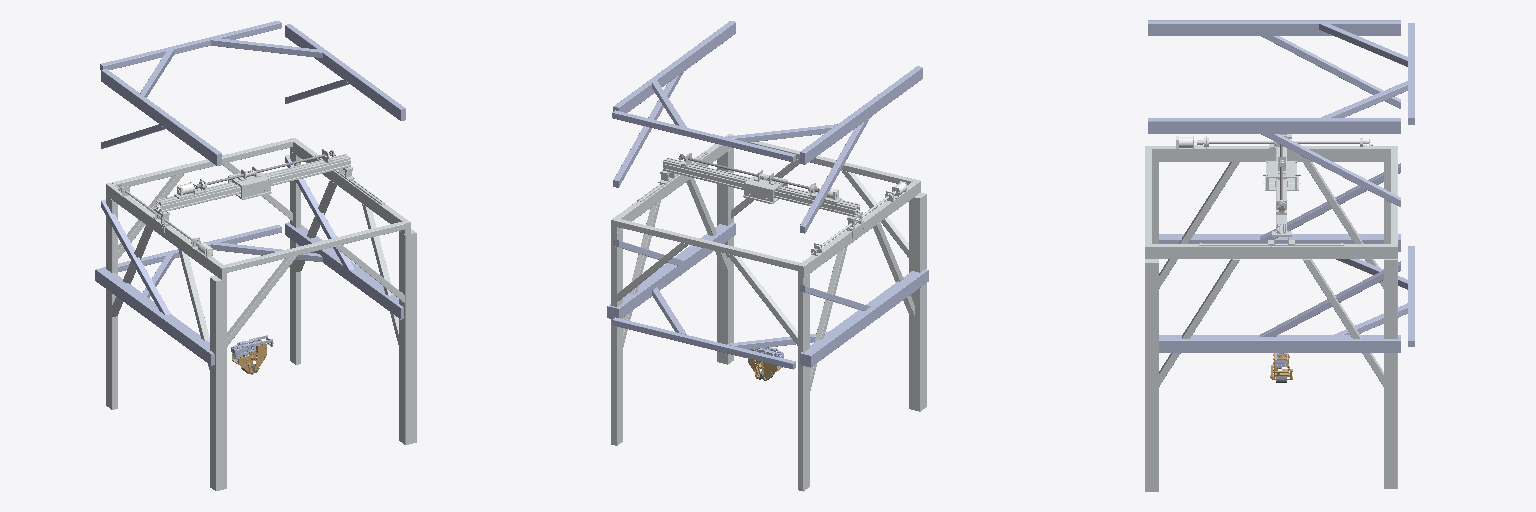
--- What the picture shows (computed from the rendered views, not written in the file) ---
Views: 3 orthographic renders of the robot side by side, from view 1: azimuth 30°, elevation 25°; view 2: azimuth 150°, elevation 25°; view 3: azimuth 270°, elevation 25°.
Robot: pleatrobot — 27 links, 26 joints (7 revolute, 2 continuous, 3 prismatic, 14 fixed); root link world; default pose: all joints at 0.
Links seen in each view (by area): view 1: base_link, gripper_base_link, top_bar, right_bar, left_bar, motion2_slider; view 2: base_link, gripper_base_link, top_bar, right_bar, left_bar, motion2_slider; view 3: gripper_base_link, base_link, left_bar, right_bar, motion2_slider, top_bar.
Boxes of the visible links, <box> form: base_link: <box>106,139,416,490</box>; gripper_base_link: <box>95,21,405,365</box>; top_bar: <box>156,149,354,212</box>; right_bar: <box>106,183,226,279</box>; left_bar: <box>290,138,410,234</box>; motion2_slider: <box>228,166,271,199</box>; base_link: <box>611,135,926,491</box>; gripper_base_link: <box>607,21,928,369</box>; top_bar: <box>658,153,859,216</box>; right_bar: <box>798,179,920,277</box>; left_bar: <box>611,134,733,232</box>; motion2_slider: <box>743,170,787,203</box>; gripper_base_link: <box>1148,20,1414,352</box>; base_link: <box>1145,149,1397,491</box>; left_bar: <box>1145,243,1397,258</box>; right_bar: <box>1145,136,1397,161</box>; motion2_slider: <box>1263,157,1300,190</box>; top_bar: <box>1268,134,1294,246</box>.
Size in the robot's own frame: 1.83 by 1.92 by 2.87 metres.
Meshes: 25 distinct files referenced, 17 mesh visuals loaded (16 binary STL); not drawn: 8 (reference not matched to a file when rendering).

URDF robot description (pleatrobot):
<?xml version="1.0" ?>
<!-- =================================================================================== -->
<!-- |    This document was autogenerated by xacro from pleatrobot.urdf.xacro          | -->
<!-- |    EDITING THIS FILE BY HAND IS NOT RECOMMENDED                                 | -->
<!-- =================================================================================== -->
<robot name="pleatrobot">

  <material name="Black">
    <color rgba="0.0 0.0 0.0 1.0"/>
  </material>
  <material name="Blue">
    <color rgba="0.0 0.0 0.8 1.0"/>
  </material>
  <material name="Green">
    <color rgba="0.0 0.8 0.0 1.0"/>
  </material>
  <material name="Grey">
    <color rgba="0.4 0.4 0.4 1.0"/>
  </material>
  <material name="Orange">
    <color rgba="1.0 0.423529411765 0.0392156862745 1.0"/>
  </material>
  <material name="Brown">
    <color rgba="0.870588235294 0.811764705882 0.764705882353 1.0"/>
  </material>
  <material name="Red">
    <color rgba="0.8 0.0 0.0 1.0"/>
  </material>
  <material name="White">
    <color rgba="1.0 1.0 1.0 1.0"/>
  </material>

  <link name="world">
  </link>
  
  <link name="base_link">
    <inertial>
      <origin rpy="0 0 0" xyz="0 0 0.95"/>
      <mass value="186.7"/>
      <inertia ixx="120" iyy="120" izz="120" ixy="0" ixz="0" iyz="0" />
    </inertial>
    <visual>
      <origin rpy="0 0 0" xyz="0 0 0.95"/>
      <geometry>
        <mesh filename="package://gantry_description/meshes/base_link.STL"/>
      </geometry>
      <material name="">
        <color rgba="0.89804 0.91765 0.92941 1"/>
      </material>
    </visual>
    <collision>
      <origin rpy="0 0 0" xyz="0 0 0.95"/>
      <geometry>
        <mesh filename="package://gantry_description/meshes/base_link.STL"/>
      </geometry>
    </collision>
  </link>

  <joint name="world_to_baselink" type="fixed">
    <origin rpy="0 0 0" xyz="0 0 0"/>
    <parent link="world"/>
    <child link="base_link"/>
    <axis xyz="0 0 0"/>
  </joint>
  
  
  <link name="left_bar">
    <inertial>
      <origin rpy="0 0 0" xyz="0.82653 0.0 1.85173"/>
      <mass value="24.263"/>
      <inertia ixx="6.57" iyy="0.03" izz="6.56" ixy="0" ixz="0" iyz="0" />
    </inertial>
    <visual>
      <origin rpy="0 0 0" xyz="0 0 0.95"/>
      <geometry>
        <mesh filename="package://gantry_description/meshes/left_bar.STL"/>
      </geometry>
      <material name="">
        <color rgba="0.89804 0.91765 0.92941 1"/>
      </material>
    </visual>
    <collision>
      <origin rpy="0 0 0" xyz="0 0 0.95"/>
      <geometry>
        <mesh filename="package://gantry_description/meshes/left_bar.STL"/>
      </geometry>
    </collision>
  </link>
  
  <joint name="f_left_bar" type="fixed">
    <origin rpy="0 0 0" xyz="0 0 0"/>
    <parent link="base_link"/>
    <child link="left_bar"/>
    <axis xyz="0 0 0"/>
  </joint>
  
  
  <link name="right_bar">
    <inertial>
      <origin rpy="0 0 0" xyz="-0.82689 0 1.85173"/>
      <mass value="24.263"/>
      <inertia ixx="6.57" iyy="0.03" izz="6.56" ixy="0" ixz="0" iyz="0" />
    </inertial>
    <visual>
      <origin rpy="0 0 0" xyz="0 0 0.95"/>
      <geometry>
        <mesh filename="package://gantry_description/meshes/right_bar.STL"/>
      </geometry>
      <material name="">
        <color rgba="0.89804 0.91765 0.92941 1"/>
      </material>
    </visual>
    <collision>
      <origin rpy="0 0 0" xyz="0 0 0.95"/>
      <geometry>
        <mesh filename="package://gantry_description/meshes/right_bar.STL"/>
      </geometry>
    </collision>
  </link>


  <joint name="f_right_bar" type="fixed">
    <origin rpy="0 0 0" xyz="0 0 0"/>
    <parent link="base_link"/>
    <child link="right_bar"/>
    <axis xyz="0 0 0"/>
  </joint>
  
  <link name="right_motor">
    <inertial>
      <origin rpy="0 0 0" xyz="-0.83094 -0.60801 1.93633"/>
      <mass value="0.512"/>
      <inertia ixx="0.00067287" iyy="0.00037705" izz="0.00067162" ixy="0" ixz="0" iyz="0" />
    </inertial>
    <visual>
      <origin rpy="0 0 0" xyz="0 0 0.95"/>
      <geometry>
        <mesh filename="package://gantry_description/meshes/right_motor.STL"/>
      </geometry>
      <material name="">
        <color rgba="1 1 1 1"/>
      </material>
    </visual>
    <collision>
      <origin rpy="0 0 0" xyz="0 0 0.95"/>
      <geometry>
        <mesh filename="package://gantry_description/meshes/right_motor.STL"/>
      </geometry>
    </collision>
  </link>
  
  
  <joint name="f_right_motor" type="fixed">
    <origin rpy="0 0 0" xyz="0 0 0"/>
    <parent link="right_bar"/>
    <child link="right_motor"/>
    <axis xyz="0 0 0"/>
  </joint>
  
  
  <link name="right_rod">
    <inertial>
      <origin rpy="0 0 0" xyz="-0.82757 0.09458 1.93633"/>
      <mass value="0.02709"/>
      <inertia ixx="4.5437E-05" iyy="4.0541E-06" izz="4.5437E-05" ixy="0" ixz="0" iyz="0" />
    </inertial>
    <visual>
      <origin rpy="0 0 0" xyz="0 0 0.95"/>
      <geometry>
        <mesh filename="package://gantry_description/meshes/right_rod.STL"/>
      </geometry>
      <material name="">
        <color rgba="0.89804 0.91765 0.92941 1"/>
      </material>
    </visual>
    <collision>
      <origin rpy="0 0 0" xyz="0 0 0.95"/>
      <geometry>
        <mesh filename="package://gantry_description/meshes/right_rod.STL"/>
      </geometry>
    </collision>
  </link>
  
  
  <joint name="f_right_rod" type="fixed">
    <origin rpy="0 0 0" xyz="0 0 0"/>
    <parent link="right_motor"/>
    <child link="right_rod"/>
    <axis xyz="0 0 0"/>
  </joint>
  
  
  <link name="motion1_slider">
    <inertial>
      <origin rpy="0 0 0" xyz="-0.82949 0.07672 1.94128"/>
      <mass value="1.8544"/>
      <inertia ixx="0.0032532" iyy="2.0988E-07" izz="0.003516" ixy="2.0988E-07" ixz="-4.5186E-05" iyz="1.6779E-07" />
    </inertial>
    <visual>
      <origin rpy="0 0 0" xyz="0 0 0.95"/>
      <geometry>
        <mesh filename="package://gantry_description/meshes/motion1_slider.STL"/>
      </geometry>
      <material name="">
        <color rgba="0.89804 0.91765 0.92941 1"/>
      </material>
    </visual>
    <collision>
      <origin rpy="0 0 0" xyz="0 0 0.95"/>
      <geometry>
        <mesh filename="package://gantry_description/meshes/motion1_slider.STL"/>
      </geometry>
    </collision>
  </link>
  
  
  <joint name="p_motion1" type="prismatic">
    <origin rpy="0 0 0" xyz="0 0 0"/>
    <parent link="right_rod"/>
    <child link="motion1_slider"/>
    <axis xyz="0 1 0"/>
    <limit effort="10" lower="-0.4" upper="0.4" velocity="50"/>
  </joint>
  
  
  <link name="top_bar">
    <inertial>
      <origin rpy="0 0 0" xyz="0.00405 0.07701 2.0363"/>
      <mass value="10.752"/>
      <inertia ixx="0.01" iyy="1.89" izz="1.89" ixy="3.5377E-07" ixz="1.4909E-05" iyz="8.3927E-06" />
    </inertial>
    <visual>
      <origin rpy="0 0 0" xyz="0 0 0.95"/>
      <geometry>
        <mesh filename="package://gantry_description/meshes/top_bar.STL"/>
      </geometry>
      <material name="">
        <color rgba="0.89804 0.91765 0.92941 1"/>
      </material>
    </visual>
    <collision>
      <origin rpy="0 0 0" xyz="0 0 0.95"/>
      <geometry>
        <mesh filename="package://gantry_description/meshes/top_bar.STL"/>
      </geometry>
    </collision>
  </link>
  
  
  <joint name="f_top_bar" type="fixed">
    <origin rpy="0 0 0" xyz="0 0 0"/>
    <parent link="motion1_slider"/>
    <child link="top_bar"/>
    <axis xyz="0 0 0"/>
  </joint>


  <link name="top_motor">
    <inertial>
      <origin rpy="0 0 0" xyz="-0.60801 0.07702 2.1295"/>
      <mass value="0.512"/>
      <inertia ixx="0.00037705" iyy="0.00067285" izz="0.00067164" ixy="9.6148E-08" ixz="-2.118E-09" iyz="4.946E-08" />
    </inertial>
    <visual>
      <origin rpy="0 0 0" xyz="0 0 0.95"/>
      <geometry>
        <mesh filename="package://gantry_description/meshes/top_motor.STL"/>
      </geometry>
      <material name="">
        <color rgba="1 1 1 1"/>
      </material>
    </visual>
    <collision>
      <origin rpy="0 0 0" xyz="0 0 0.95"/>
      <geometry>
        <mesh filename="package://gantry_description/meshes/top_motor.STL"/>
      </geometry>
    </collision>
  </link>
  
  
  <joint name="f_top_motor" type="fixed">
    <origin rpy="0 0 0" xyz="0 0 0"/>
    <parent link="top_bar"/>
    <child link="top_motor"/>
    <axis xyz="0 0 0"/>
  </joint>
  
  
  <link name="top_rod">
    <inertial>
      <origin rpy="0 0 0" xyz="0.09323 0.07783 2.1295"/>
      <mass value="0.02709"/>
      <inertia ixx="4.0541E-06" iyy="4.5437E-05" izz="4.5437E-05" ixy="1.4106E-11" ixz="-4.8609E-11" iyz="-3.8569E-11"/>
    </inertial>
    <visual>
      <origin rpy="0 0 0" xyz="0 0 0.95"/>
      <geometry>
        <mesh filename="package://gantry_description/meshes/top_rod.STL"/>
      </geometry>
      <material name="">
        <color rgba="0.68627 0.68627 0.68627 1"/>
      </material>
    </visual>
    <collision>
      <origin rpy="0 0 0" xyz="0 0 0.95"/>
      <geometry>
        <mesh filename="package://gantry_description/meshes/top_rod.STL"/>
      </geometry>
    </collision>
  </link>


  <joint name="f_top_rod" type="fixed">
    <origin rpy="0 0 0" xyz="0 0 0"/>
    <parent link="top_motor"/>
    <child link="top_rod"/>
    <axis xyz="0 0 0"/>
  </joint>


  <link name="motion2_slider">
    <inertial>
      <origin rpy="0 0 0" xyz="0.04102 0.07292 2.0347"/>
      <mass value="6.9597"/>
      <inertia ixx="0.020511" ixy="-2.0988E-07" iyy="0.037035" izz="0.054451" ixz="-1.7396E-07" iyz="-4.3519E-11" />
    </inertial>
    <visual>
      <origin rpy="0 0 0" xyz="0 0 0.95"/>
      <geometry>
        <mesh filename="package://gantry_description/meshes/motion2_slider.STL"/>
      </geometry>
      <material name="">
        <color rgba="0.89804 0.91765 0.92941 1"/>
      </material>
    </visual>
    <collision>
      <origin rpy="0 0 0" xyz="0 0 0.95"/>
      <geometry>
        <mesh filename="package://gantry_description/meshes/motion2_slider.STL"/>
      </geometry>
    </collision>
  </link>
  
  
  <joint name="p_motion2" type="prismatic">
    <origin rpy="0 0 0" xyz="0 0 0"/>
    <parent link="top_rod"/>
    <child link="motion2_slider"/>
    <axis xyz="1 0 0"/>
    <limit effort="10" lower="-0.4" upper="0.4" velocity="50"/>
  </joint>
  
  
  <!--joint between {parent} and link_0-->
  <joint name="motion2_slider_pleatrobot_joint" type="fixed">
    <origin rpy="0 3.1416 0" xyz="-0.035 0.075 1.98253"/>
    <parent link="motion2_slider"/>
    <child link="pleatrobot_link_0"/>
  </joint>
  
  
  <link name="pleatrobot_link_0">
    <inertial>
      <origin rpy="0 0 0" xyz="-0.1 0 0.07"/>
      <mass value="5"/>
      <inertia ixx="0.05" ixy="0" ixz="0" iyy="0.06" iyz="0" izz="0.03"/>
    </inertial>
    <visual>
      <origin rpy="0 0 0" xyz="0 0 0"/>
      <geometry>
        <mesh filename="package://pleatrobot_description/meshes/iiwa7/visual/link_0.stl"/>
      </geometry>
      <material name="Grey"/>
    </visual>
    <collision>
      <origin rpy="0 0 0" xyz="0 0 0"/>
      <geometry>
        <mesh filename="package://pleatrobot_description/meshes/iiwa7/collision/link_0.stl"/>
      </geometry>
      <material name="Grey"/>
    </collision>
    <self_collision_checking>
      <origin rpy="0 0 0" xyz="0 0 0"/>
      <geometry>
        <capsule length="0.25" radius="0.15"/>
      </geometry>
    </self_collision_checking>
  </link>
  
  
  <!-- joint between link_0 and link_1 -->
  <joint name="pleatrobot_joint_1" type="revolute">
    <parent link="pleatrobot_link_0"/>
    <child link="pleatrobot_link_1"/>
    <origin rpy="0 0 0" xyz="0 0 0.15"/>
    <axis xyz="0 0 1"/>
    <limit effort="300" lower="-2.96705972839" upper="2.96705972839" velocity="10"/>
    <safety_controller k_position="100" k_velocity="2" soft_lower_limit="-2.93215314335" soft_upper_limit="2.93215314335"/>
    <dynamics damping="0.5"/>
  </joint>
  
  
  <link name="pleatrobot_link_1">
    <inertial>
      <origin rpy="0 0 0" xyz="0 -0.03 0.12"/>
      <mass value="3.4525"/>
      <inertia ixx="0.02183" ixy="0" ixz="0" iyy="0.007703" iyz="-0.003887" izz="0.02083"/>
    </inertial>
    <visual>
      <origin rpy="0 0 0" xyz="0 0 0.0075"/>
      <geometry>
        <mesh filename="package://pleatrobot_description/meshes/iiwa7/visual/link_1.stl"/>
      </geometry>
      <material name="Orange"/>
    </visual>
    <collision>
      <origin rpy="0 0 0" xyz="0 0 0.0075"/>
      <geometry>
        <mesh filename="package://pleatrobot_description/meshes/iiwa7/collision/link_1.stl"/>
      </geometry>
      <material name="Orange"/>
    </collision>
  </link>
  
  
  <joint name="pleatrobot_joint_2" type="revolute">
    <parent link="pleatrobot_link_1"/>
    <child link="pleatrobot_link_2"/>
    <origin rpy="1.57079632679   0 3.14159265359" xyz="0 0 0.19"/>
    <axis xyz="0 0 1"/>
    <limit effort="300" lower="-2.09439510239" upper="2.09439510239" velocity="10"/>
    <safety_controller k_position="100" k_velocity="2" soft_lower_limit="-2.05948851735" soft_upper_limit="2.05948851735"/>
    <dynamics damping="0.5"/>
  </joint>
  
  
  <link name="pleatrobot_link_2">
    <inertial>
      <origin rpy="0 0 0" xyz="0.0003 0.059 0.042"/>
      <mass value="3.4821"/>
      <inertia ixx="0.02076" ixy="0" ixz="-0.003626" iyy="0.02179" iyz="0" izz="0.00779"/>
    </inertial>
    <visual>
      <origin rpy="0 0 0" xyz="0 0 0"/>
      <geometry>
        <mesh filename="package://pleatrobot_description/meshes/iiwa7/visual/link_2.stl"/>
      </geometry>
      <material name="Orange"/>
    </visual>
    <collision>
      <origin rpy="0 0 0" xyz="0 0 0"/>
      <geometry>
        <mesh filename="package://pleatrobot_description/meshes/iiwa7/collision/link_2.stl"/>
      </geometry>
      <material name="Orange"/>
    </collision>
  </link>
  
  
  <joint name="pleatrobot_joint_3" type="revolute">
    <parent link="pleatrobot_link_2"/>
    <child link="pleatrobot_link_3"/>
    <origin rpy="1.57079632679 0 3.14159265359" xyz="0 0.21 0"/>
    <axis xyz="0 0 1"/>
    <limit effort="300" lower="-2.96705972839" upper="2.96705972839" velocity="10"/>
    <safety_controller k_position="100" k_velocity="2" soft_lower_limit="-2.93215314335" soft_upper_limit="2.93215314335"/>
    <dynamics damping="0.5"/>
  </joint>
  
  
  <link name="pleatrobot_link_3">
    <inertial>
      <origin rpy="0 0 0" xyz="0 0.03 0.13"/>
      <mass value="4.05623"/>
      <inertia ixx="0.03204" ixy="0" ixz="0" iyy="0.00972" iyz="0.006227" izz="0.03042"/>
    </inertial>
    <visual>
      <origin rpy="0 0 0" xyz="0 0 -0.026"/>
      <geometry>
        <mesh filename="package://pleatrobot_description/meshes/iiwa7/visual/link_3.stl"/>
      </geometry>
      <material name="Orange"/>
    </visual>
    <collision>
      <origin rpy="0 0 0" xyz="0 0 -0.026"/>
      <geometry>
        <mesh filename="package://pleatrobot_description/meshes/iiwa7/collision/link_3.stl"/>
      </geometry>
      <material name="Orange"/>
    </collision>
  </link>
  
  
  <joint name="pleatrobot_joint_4" type="revolute">
    <parent link="pleatrobot_link_3"/>
    <child link="pleatrobot_link_4"/>
    <origin rpy="1.57079632679 0 0" xyz="0 0 0.19"/>
    <axis xyz="0 0 1"/>
    <limit effort="300" lower="-2.09439510239" upper="2.09439510239" velocity="10"/>
    <safety_controller k_position="100" k_velocity="2" soft_lower_limit="-2.05948851735" soft_upper_limit="2.05948851735"/>
    <dynamics damping="0.5"/>
  </joint>
  
  
  <link name="pleatrobot_link_4">
    <inertial>
      <origin rpy="0 0 0" xyz="0 0.067 0.034"/>
      <mass value="3.4822"/>
      <inertia ixx="0.02178" ixy="0" ixz="0" iyy="0.02075" iyz="-0.003625" izz="0.007785"/>
    </inertial>
    <visual>
      <origin rpy="0 0 0" xyz="0 0 0"/>
      <geometry>
        <mesh filename="package://pleatrobot_description/meshes/iiwa7/visual/link_4.stl"/>
      </geometry>
      <material name="Orange"/>
    </visual>
    <collision>
      <origin rpy="0 0 0" xyz="0 0 0"/>
      <geometry>
        <mesh filename="package://pleatrobot_description/meshes/iiwa7/collision/link_4.stl"/>
      </geometry>
      <material name="Orange"/>
    </collision>
  </link>
  
  
  <joint name="pleatrobot_joint_5" type="revolute">
    <parent link="pleatrobot_link_4"/>
    <child link="pleatrobot_link_5"/>
    <origin rpy="-1.57079632679 3.14159265359 0" xyz="0 0.21 0"/>
    <axis xyz="0 0 1"/>
    <limit effort="300" lower="-2.96705972839" upper="2.96705972839" velocity="10"/>
    <safety_controller k_position="100" k_velocity="2" soft_lower_limit="-2.93215314335" soft_upper_limit="2.93215314335"/>
    <dynamics damping="0.5"/>
  </joint>
  
  
  <link name="pleatrobot_link_5">
    <inertial>
      <origin rpy="0 0 0" xyz="0.0001 0.021 0.076"/>
      <mass value="2.1633"/>
      <inertia ixx="0.01287" ixy="0" ixz="0" iyy="0.005708" iyz="-0.003946" izz="0.01112"/>
    </inertial>
    <visual>
      <origin rpy="0 0 0" xyz="0 0 -0.026"/>
      <geometry>
        <mesh filename="package://pleatrobot_description/meshes/iiwa7/visual/link_5.stl"/>
      </geometry>
      <material name="Orange"/>
    </visual>
    <collision>
      <origin rpy="0 0 0" xyz="0 0 -0.026"/>
      <geometry>
        <mesh filename="package://pleatrobot_description/meshes/iiwa7/collision/link_5.stl"/>
      </geometry>
      <material name="Orange"/>
    </collision>
  </link>
  
  
  <joint name="pleatrobot_joint_6" type="revolute">
    <parent link="pleatrobot_link_5"/>
    <child link="pleatrobot_link_6"/>
    <origin rpy="1.57079632679 0 0" xyz="0 0.06070 0.19"/>
    <axis xyz="0 0 1"/>
    <limit effort="300" lower="-2.09439510239" upper="2.09439510239" velocity="10"/>
    <safety_controller k_position="100" k_velocity="2" soft_lower_limit="-2.05948851735" soft_upper_limit="2.05948851735"/>
    <dynamics damping="0.5"/>
  </joint>
  
  
  <link name="pleatrobot_link_6">
    <inertial>
      <origin rpy="0 0 0" xyz="0 0.0006 0.0004"/>
      <mass value="2.3466"/>
      <inertia ixx="0.006509" ixy="0" ixz="0" iyy="0.006259" iyz="0.00031891" izz="0.004527"/>
    </inertial>
    <visual>
      <origin rpy="0 0 0" xyz="0 0 0"/>
      <geometry>
        <mesh filename="package://pleatrobot_description/meshes/iiwa7/visual/link_6.stl"/>
      </geometry>
      <material name="Orange"/>
    </visual>
    <collision>
      <origin rpy="0 0 0" xyz="0 0 0"/>
      <geometry>
        <mesh filename="package://pleatrobot_description/meshes/iiwa7/collision/link_6.stl"/>
      </geometry>
      <material name="Orange"/>
    </collision>
  </link>
  
  
  <joint name="pleatrobot_joint_7" type="revolute">
    <parent link="pleatrobot_link_6"/>
    <child link="pleatrobot_link_7"/>
    <origin rpy="-1.57079632679 3.14159265359 0" xyz="0 0.081 0.06070"/>
    <axis xyz="0 0 1"/>
    <limit effort="300" lower="-3.05432619099" upper="3.05432619099" velocity="10"/>
    <safety_controller k_position="100" k_velocity="2" soft_lower_limit="-3.01941960595" soft_upper_limit="3.01941960595"/>
    <dynamics damping="0.5"/>
  </joint>
  
  
  <link name="pleatrobot_link_7">
    <inertial>
      <origin rpy="0 0 0" xyz="0 0 0.02"/>
      <mass value="3.129"/>
      <inertia ixx="0.01464" ixy="0.0005912" ixz="0" iyy="0.01465" iyz="0" izz="0.002872"/>
    </inertial>
    <visual>
      <origin rpy="0 0 0" xyz="0 0 -0.0005"/>
      <geometry>
        <mesh filename="package://pleatrobot_description/meshes/iiwa7/visual/link_7.stl"/>
      </geometry>
      <material name="Grey"/>
    </visual>
    <collision>
      <origin rpy="0 0 0" xyz="0 0 -0.0005"/>
      <geometry>
        <mesh filename="package://pleatrobot_description/meshes/iiwa7/collision/link_7.stl"/>
      </geometry>
      <material name="Grey"/>
    </collision>
  </link>
  
  
  <joint name="pleatrobot_joint_ee" type="fixed">
    <parent link="pleatrobot_link_7"/>
    <child link="gripper_base_link"/>
    <origin rpy="-1.5708 0 0" xyz="0 0 0"/>
  </joint>
  
    
  <link name="gripper_base_link">
    <inertial>
      <origin xyz="-1.2189E-07 1.2713 2.1759E-06" rpy="0 0 0" />
      <mass value="0.20104" />
      <inertia ixx="0.00012096" iyy="0.00021064" izz="0.00012095" ixy="-3.4543E-10" ixz="7.792E-11" iyz="2.2037E-09"/>
    </inertial>
    <visual>
      <origin
        xyz="0 1.21 0"
        rpy="0 0 0" />
      <geometry>
        <mesh
          filename="package://gripper_description/meshes/base_link.STL" />
      </geometry>
      <material
        name="">
        <color
          rgba="0.79216 0.81961 0.93333 1" />
      </material>
    </visual>
    <collision>
      <origin
        xyz="0 1.21 0"
        rpy="0 0 0" />
      <geometry>
        <mesh
          filename="package://gripper_description/meshes/base_link.STL" />
      </geometry>
    </collision>
  </link>


  <link name="01_child">
    <inertial>
      <origin xyz="0.0094532 -0.6 -0.0033489" rpy="0 0 0" />
      <mass value="1.3212" />
      <inertia ixx="0.00226" iyy="0.0128225" izz="0.01281505" ixy="0" ixz="0.0016" iyz="0" />
    </inertial>
    <visual>
      <origin
        xyz="0 1.21 0"
        rpy="0 0 0" />
      <geometry>
        <mesh
          filename="package://gripper_description/meshes/01_child.STL" />
      </geometry>
      <material
        name="">
        <color
          rgba="0.79216 0.81961 0.93333 1" />
      </material>
    </visual>
    <collision>
      <origin
        xyz="0 1.21 0"
        rpy="0 0 0" />
      <geometry>
        <mesh
          filename="package://gripper_description/meshes/01_child.STL" />
      </geometry>
    </collision>
  </link>


  <joint name="f_01child" type="fixed">
    <origin
      xyz="0 0 0"
      rpy="0 0 0" />
    <parent
      link="gripper_base_link" />
    <child
      link="01_child" />
    <axis
      xyz="0 0 0" />
  </joint>


  <link name="jaw1">
    <inertial>
      <origin xyz="-0.0085346 0.047394 0.082598" rpy="0 0 0" />
      <mass value="0.40493" />
      <inertia ixx="0.00035017" iyy="0.00038396" izz="0.00025634" ixy="0" ixz="0" iyz="0" />
    </inertial>
    <visual>
      <origin
        xyz="0 0 0"
        rpy="0 0 0" />
      <geometry>
        <mesh
          filename="package://gripper_description/meshes/jaw1.STL" />
      </geometry>
      <material
        name="">
        <color
          rgba="0.82745 0.69804 0.4902 1" />
      </material>
    </visual>
    <collision>
      <origin
        xyz="0 0 0"
        rpy="0 0 0" />
      <geometry>
        <mesh
          filename="package://gripper_description/meshes/jaw1.STL" />
      </geometry>
    </collision>
  </link>
 
 
  <joint name="fixed_jaw1" type="fixed">
    <origin
      xyz="0.025 -0.303 0"
      rpy="1.5708 -1.5708 3.14159" />
    <parent
      link="01_child" />
    <child
      link="jaw1" />
    <axis
      xyz="0 0 0" />
    <limit
      lower="-0.0872665"
      upper="0.0872665"
      effort="50"
      velocity="100" />
  </joint>


  <link name="rod1">
    <inertial>
      <origin xyz="-0.00016212 0.079673 -0.00023128" rpy="0 0 0" />
      <mass value="0.23263" />
      <inertia ixx="0.00021456" iyy="5.3561E-05" izz="0.00022185" ixy="0" ixz="0" iyz="0" />
    </inertial>
    <visual>
      <origin
        xyz="0 0 0"
        rpy="0 0 0" />
      <geometry>
        <mesh
          filename="package://gripper_description/meshes/rod1.STL" />
      </geometry>
      <material
        name="">
        <color
          rgba="0.52941 0.54902 0.54902 1" />
      </material>
    </visual>
    <collision>
      <origin
        xyz="0 0 0"
        rpy="0 0 0" />
      <geometry>
        <mesh
          filename="package://gripper_description/meshes/rod1.STL" />
      </geometry>
    </collision>
  </link>
  
  
  <joint name="c_rod1" type="continuous">
    <origin
      xyz="-0.081888 0 0"
      rpy="3.1416 0.58586 1.5708" />
    <parent
      link="jaw1" />
    <child
      link="rod1" />
    <axis
      xyz="0 1 0" />
    <limit
      effort="50"
      velocity="100" />
  </joint>
  
  
  <link name="rod2">
    <inertial>
      <origin xyz="-0.098 -1.328 8.1314E-17" rpy="0 0 0" />
      <mass value="0.033326" />
      <inertia ixx="6.3581E-07" iyy="6.3516E-05" izz="6.3516E-05" ixy="3.8774E-23" ixz="1.6156E-23" iyz="-2.6552E-25" />
    </inertial>
    <visual>
      <origin
        xyz="0 1.21 0"
        rpy="0 0 0" />
      <geometry>
        <mesh
          filename="package://gripper_description/meshes/rod2.STL" />
      </geometry>
      <material
        name="">
        <color
          rgba="0.79216 0.81961 0.93333 1" />
      </material>
    </visual>
    <collision>
      <origin
        xyz="0 1.21 0"
        rpy="0 0 0" />
      <geometry>
        <mesh
          filename="package://gripper_description/meshes/rod2.STL" />
      </geometry>
    </collision>
  </link>
  
  
  <joint name="f_rod2" type="fixed">
    <origin
      xyz="0 0 0"
      rpy="0 0 0" />
    <parent
      link="01_child" />
    <child
      link="rod2" />
    <axis
      xyz="0 0 0" />
  </joint>
  
  
  <link name="jaw2">
    <inertial>
      <origin xyz="-0.063785 -0.2 -0.002598" rpy="0 0 0" />
      <mass value="0.81068" />
      <inertia ixx="0.0007992" iyy="0.00051604" izz="0.00010843" ixy="0.00060318" ixz="-1.2528E-07" iyz="-2.7791E-07" />
    </inertial>
    <visual>
      <origin
        xyz="0 1.21 0"
        rpy="0 0 0" />
      <geometry>
        <mesh
          filename="package://gripper_description/meshes/jaw2.STL" />
      </geometry>
      <material
        name="">
        <color
          rgba="0.82745 0.69804 0.4902 1" />
      </material>
    </visual>
    <collision>
      <origin
        xyz="0 1.21 0"
        rpy="0 0 0" />
      <geometry>
        <mesh
          filename="package://gripper_description/meshes/jaw2.STL" />
      </geometry>
    </collision>
  </link>
  
  
  <joint name="p_jaw2" type="prismatic">
    <origin
      xyz="0 0 0"
      rpy="0 0 0" />
    <parent
      link="rod2" />
    <child
      link="jaw2" />
    <axis
      xyz="-1 0 0" />
    <limit
      lower="0"
      upper="0.05"
      effort="50"
      velocity="100" />
  </joint>
  
  
  <link name="rod3">
    <inertial>
      <origin xyz="-0.000287482481318269 0.0796731129142511 2.27008169670917E-05" rpy="0 0 0" />
      <mass value="0.232866245737791" />
      <inertia ixx="0.000223656460602869" iyy="5.35773404241321E-05" izz="0.000212754182688039" ixy="-4.85120700596206E-13" ixz="7.44206671716712E-07" iyz="1.44557114747249E-11" />
    </inertial>
    <visual>
      <origin
        xyz="0 0 0"
        rpy="0 0 0" />
      <geometry>
        <mesh
          filename="package://gripper_description/meshes/rod3.STL" />
      </geometry>
      <material
        name="">
        <color
          rgba="0.529411764705882 0.549019607843137 0.549019607843137 1" />
      </material>
    </visual>
    <collision>
      <origin
        xyz="0 0 0"
        rpy="0 0 0" />
      <geometry>
        <mesh
          filename="package://gripper_description/meshes/rod3.STL" />
      </geometry>
    </collision>
  </link>
  
  
  <joint name="c_rod3" type="continuous">
    <origin
      xyz="-0.025 -0.303 0.081888"
      rpy="-1.5708 0 -0.55284" />
    <parent
      link="jaw2" />
    <child
      link="rod3" />
    <axis
      xyz="0 1 0" />
    <limit
      effort="50"
      velocity="100" />
  </joint>

  <link name="tool_tip"/>

  <joint name="tool_tip_pose" type="fixed">
    <parent link="pleatrobot_link_7"/>
    <child link="tool_tip"/>
    <origin xyz="0 0 0.3" rpy="0 0 0"/>
  </joint>


  

  <!-- Link0 -->
  <gazebo reference="pleatrobot_link_0">
    <material>Gazebo/Grey</material>
    <mu1>0.2</mu1>
    <mu2>0.2</mu2>
  </gazebo>
  <!-- Link1 -->
  <gazebo reference="pleatrobot_link_1">
    <material>Gazebo/Orange</material>
    <mu1>0.2</mu1>
    <mu2>0.2</mu2>
  </gazebo>
  <!-- Link2 -->
  <gazebo reference="pleatrobot_link_2">
    <material>Gazebo/Orange</material>
    <mu1>0.2</mu1>
    <mu2>0.2</mu2>
  </gazebo>
  <!-- Link3 -->
  <gazebo reference="pleatrobot_link_3">
    <material>Gazebo/Orange</material>
    <mu1>0.2</mu1>
    <mu2>0.2</mu2>
  </gazebo>
  <!-- Link4 -->
  <gazebo reference="pleatrobot_link_4">
    <material>Gazebo/Orange</material>
    <mu1>0.2</mu1>
    <mu2>0.2</mu2>
  </gazebo>
  <!-- Link5 -->
  <gazebo reference="pleatrobot_link_5">
    <material>Gazebo/Orange</material>
    <mu1>0.2</mu1>
    <mu2>0.2</mu2>
  </gazebo>
  <!-- Link6 -->
  <gazebo reference="pleatrobot_link_6">
    <material>Gazebo/Orange</material>
    <mu1>0.2</mu1>
    <mu2>0.2</mu2>
  </gazebo>
  <!-- Link7 -->
  <gazebo reference="pleatrobot_link_7">
    <material>Gazebo/Grey</material>
    <mu1>0.2</mu1>
    <mu2>0.2</mu2>
  </gazebo>

  
  <!-- <xacro:pleatrobot_transmission hardware_interface="${hardware_interface}"/> -->
  <transmission name="trans_p_motion1">
      <type>transmission_interface/SimpleTransmission</type>
      <joint name="p_motion1">
          <hardwareInterface>PositionJointInterface</hardwareInterface>
      </joint>
      <actuator name="p_motion1_motor">
          <hardwareInterface>PositionJointInterface</hardwareInterface>
          <mechanicalReduction>1</mechanicalReduction>
      </actuator>
  </transmission>
  
  <transmission name="trans_p_motion2">
      <type>transmission_interface/SimpleTransmission</type>
      <joint name="p_motion2">
          <hardwareInterface>PositionJointInterface</hardwareInterface>
      </joint>
      <actuator name="p_motion2_motor">
          <hardwareInterface>PositionJointInterface</hardwareInterface>
          <mechanicalReduction>1</mechanicalReduction>
      </actuator>
  </transmission>
  
  <transmission name="trans_pleatrobot_joint_1">
      <type>transmission_interface/SimpleTransmission</type>
      <joint name="pleatrobot_joint_1">
          <hardwareInterface>PositionJointInterface</hardwareInterface>
      </joint>
      <actuator name="pleatrobot_joint_1_motor">
          <hardwareInterface>PositionJointInterface</hardwareInterface>
          <mechanicalReduction>1</mechanicalReduction>
      </actuator>
  </transmission>
  
  <transmission name="trans_pleatrobot_joint_2">
      <type>transmission_interface/SimpleTransmission</type>
      <joint name="pleatrobot_joint_2">
          <hardwareInterface>PositionJointInterface</hardwareInterface>
      </joint>
      <actuator name="pleatrobot_joint_2_motor">
          <hardwareInterface>PositionJointInterface</hardwareInterface>
          <mechanicalReduction>1</mechanicalReduction>
      </actuator>
  </transmission>
  
  <transmission name="trans_pleatrobot_joint_3">
      <type>transmission_interface/SimpleTransmission</type>
      <joint name="pleatrobot_joint_3">
          <hardwareInterface>PositionJointInterface</hardwareInterface>
      </joint>
      <actuator name="pleatrobot_joint_3_motor">
          <hardwareInterface>PositionJointInterface</hardwareInterface>
          <mechanicalReduction>1</mechanicalReduction>
      </actuator>
  </transmission>
  
  <transmission name="trans_pleatrobot_joint_4">
      <type>transmission_interface/SimpleTransmission</type>
      <joint name="pleatrobot_joint_4">
          <hardwareInterface>PositionJointInterface</hardwareInterface>
      </joint>
      <actuator name="pleatrobot_joint_4_motor">
          <hardwareInterface>PositionJointInterface</hardwareInterface>
          <mechanicalReduction>1</mechanicalReduction>
      </actuator>
  </transmission>
  
  <transmission name="trans_pleatrobot_joint_5">
      <type>transmission_interface/SimpleTransmission</type>
      <joint name="pleatrobot_joint_5">
          <hardwareInterface>PositionJointInterface</hardwareInterface>
      </joint>
      <actuator name="pleatrobot_joint_5_motor">
          <hardwareInterface>PositionJointInterface</hardwareInterface>
          <mechanicalReduction>1</mechanicalReduction>
      </actuator>
  </transmission>
  
  <transmission name="trans_pleatrobot_joint_6">
      <type>transmission_interface/SimpleTransmission</type>
      <joint name="pleatrobot_joint_6">
          <hardwareInterface>PositionJointInterface</hardwareInterface>
      </joint>
      <actuator name="pleatrobot_joint_6_motor">
          <hardwareInterface>PositionJointInterface</hardwareInterface>
          <mechanicalReduction>1</mechanicalReduction>
      </actuator>
  </transmission>
  
  <transmission name="trans_pleatrobot_joint_7">
      <type>transmission_interface/SimpleTransmission</type>
      <joint name="pleatrobot_joint_7">
          <hardwareInterface>PositionJointInterface</hardwareInterface>
      </joint>
      <actuator name="pleatrobot_joint_7_motor">
          <hardwareInterface>PositionJointInterface</hardwareInterface>
          <mechanicalReduction>1</mechanicalReduction>
      </actuator>
  </transmission>
  
  <transmission name="trans_c_rod1">
      <type>transmission_interface/SimpleTransmission</type>
      <joint name="c_rod1">
          <hardwareInterface>PositionJointInterface</hardwareInterface>
      </joint>
      <actuator name="c_rod1_motor">
          <hardwareInterface>PositionJointInterface</hardwareInterface>
          <mechanicalReduction>1</mechanicalReduction>
      </actuator>
  </transmission>
  
  <transmission name="trans_p_jaw2">
      <type>transmission_interface/SimpleTransmission</type>
      <joint name="p_jaw2">
          <hardwareInterface>PositionJointInterface</hardwareInterface>
      </joint>
      <actuator name="p_jaw2_motor">
          <hardwareInterface>PositionJointInterface</hardwareInterface>
          <mechanicalReduction>1</mechanicalReduction>
      </actuator>
  </transmission>
  
  <transmission name="trans_c_rod3">
      <type>transmission_interface/SimpleTransmission</type>
      <joint name="c_rod3">
          <hardwareInterface>PositionJointInterface</hardwareInterface>
      </joint>
      <actuator name="c_rod3_motor">
          <hardwareInterface>PositionJointInterface</hardwareInterface>
          <mechanicalReduction>1</mechanicalReduction>
      </actuator>
  </transmission>


  <gazebo>
    <plugin name="control" filename="libgazebo_ros_control.so"/>
  </gazebo>


  <gazebo>
    <plugin name="joint_state_publisher" filename="libgazebo_ros_joint_state_publisher.so">
      <jointName>p_motion1, p_motion2, pleatrobot_joint_1, pleatrobot_joint_2, pleatrobot_joint_3, pleatrobot_joint_4, pleatrobot_joint_5, pleatrobot_joint_6, pleatrobot_joint_7, c_rod1, p_jaw2, c_rod3</jointName>
    </plugin>
  </gazebo>

  <!-- <gazebo>
    <plugin name="joint_state_publisher" filename="libgazebo_ros_joint_state_publisher.so">
      <jointName>p_motion1, p_motion2, pleatrobot_joint_1, pleatrobot_joint_2, pleatrobot_joint_3, pleatrobot_joint_4, pleatrobot_joint_5, pleatrobot_joint_6, pleatrobot_joint_7</jointName>
    </plugin>
  </gazebo> -->

</robot>
